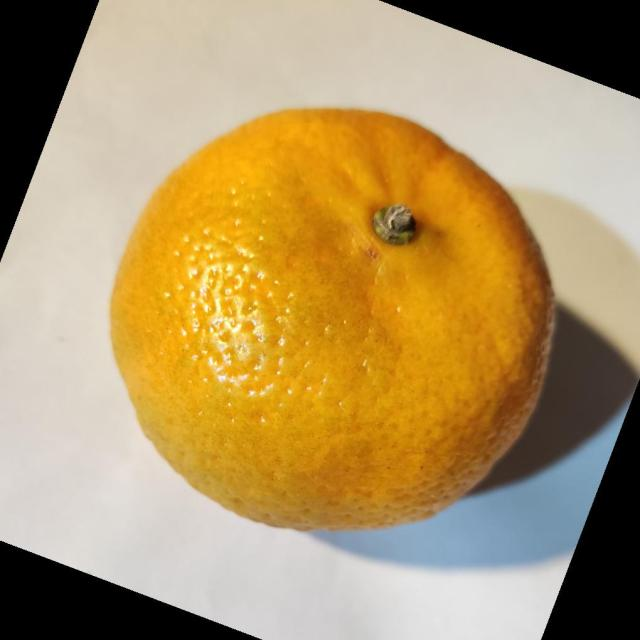fresh orange: (108, 105, 556, 532)
